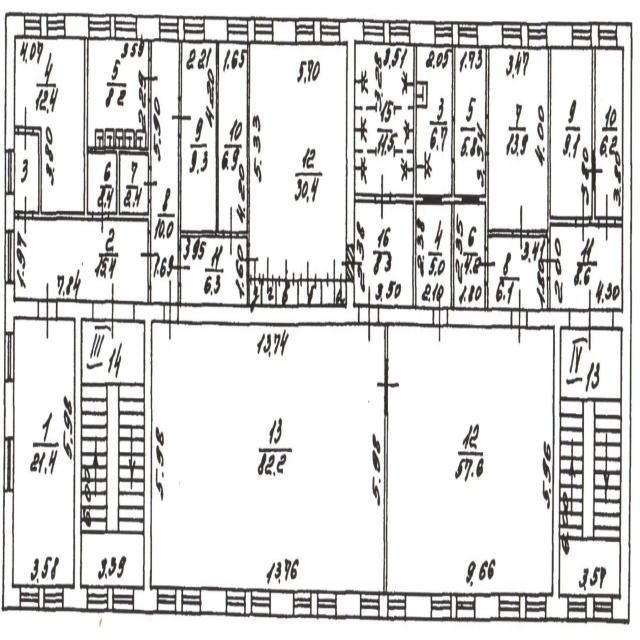Bathrooms: (356, 44, 412, 194), (89, 42, 147, 147), (418, 47, 451, 193), (456, 48, 485, 195)
Corridors: (15, 221, 148, 302), (152, 42, 178, 302), (551, 228, 622, 308), (355, 205, 412, 304), (182, 239, 246, 304), (489, 240, 546, 308), (417, 206, 450, 306), (455, 206, 484, 307), (15, 136, 37, 210), (120, 157, 147, 212), (89, 155, 115, 211), (299, 282, 320, 304), (277, 282, 297, 304), (263, 282, 275, 304), (335, 282, 346, 305), (250, 282, 261, 304), (323, 282, 333, 304)
Doors: (569, 288, 613, 353), (93, 281, 134, 342), (376, 358, 399, 415), (358, 285, 379, 344), (38, 282, 57, 343), (140, 230, 159, 289), (512, 288, 528, 347), (164, 278, 178, 341), (223, 203, 238, 261), (598, 191, 615, 242), (433, 288, 448, 345), (340, 244, 362, 282), (172, 97, 192, 137), (576, 188, 590, 242), (512, 204, 528, 251), (375, 172, 390, 221), (326, 257, 342, 302), (586, 150, 603, 192), (18, 105, 33, 152), (299, 258, 317, 297), (277, 257, 295, 296), (172, 248, 191, 284), (143, 59, 159, 101), (241, 243, 259, 280), (541, 241, 558, 279), (18, 194, 33, 236), (479, 248, 496, 283), (92, 200, 109, 235), (144, 168, 158, 201), (262, 255, 274, 291), (250, 258, 261, 288), (423, 195, 442, 205), (485, 115, 489, 155), (462, 196, 479, 204), (452, 118, 455, 161)
LBwalls: (527, 310, 570, 591), (613, 20, 632, 624), (57, 298, 93, 614), (134, 302, 165, 615), (178, 282, 359, 326), (340, 19, 364, 245), (4, 11, 24, 150), (2, 492, 20, 614), (4, 283, 38, 333), (448, 308, 512, 328), (378, 305, 434, 327), (406, 591, 431, 621), (546, 592, 568, 623), (476, 593, 498, 623), (336, 591, 360, 618), (201, 586, 225, 613), (547, 22, 571, 49), (4, 381, 15, 438), (65, 12, 88, 39), (411, 20, 434, 47), (270, 589, 293, 615), (137, 15, 160, 41), (273, 17, 296, 43), (479, 22, 501, 49), (205, 17, 227, 43), (5, 195, 14, 230), (379, 593, 388, 620), (613, 309, 622, 331), (41, 12, 48, 39), (521, 21, 528, 48), (452, 19, 459, 46), (591, 23, 598, 49), (520, 592, 526, 621), (176, 586, 182, 613), (314, 17, 320, 43), (452, 592, 457, 621), (110, 14, 115, 41), (179, 14, 184, 41), (385, 19, 390, 46), (312, 591, 317, 618), (108, 585, 113, 612), (39, 585, 44, 612), (249, 15, 254, 41), (246, 591, 251, 617)
Offices: (152, 324, 384, 591), (388, 326, 551, 591), (250, 44, 346, 278), (15, 321, 73, 583), (15, 40, 84, 210), (489, 49, 547, 228), (552, 49, 591, 215), (182, 42, 215, 230), (219, 44, 246, 230), (596, 52, 621, 215)
Stairs: (82, 321, 143, 585), (561, 330, 618, 593)
Walls: (33, 38, 152, 230), (177, 44, 224, 248), (527, 47, 576, 242), (390, 46, 423, 307), (478, 155, 512, 248), (442, 161, 462, 305), (237, 44, 251, 244), (384, 415, 387, 591), (591, 51, 596, 151), (485, 48, 490, 114), (590, 191, 599, 226), (452, 47, 456, 118), (317, 277, 326, 304), (355, 193, 375, 204), (179, 41, 182, 98), (295, 280, 301, 307), (546, 279, 551, 309), (384, 325, 388, 358), (484, 284, 489, 308), (615, 215, 622, 228), (247, 280, 250, 303), (148, 41, 152, 58), (147, 288, 151, 304), (178, 284, 181, 302), (275, 278, 277, 305), (14, 211, 18, 220), (341, 277, 346, 284), (15, 124, 18, 135), (261, 277, 262, 304)
Windows: (112, 584, 134, 613), (225, 588, 246, 618), (456, 591, 476, 622), (89, 14, 111, 42), (87, 585, 109, 613), (571, 20, 592, 49), (4, 229, 15, 284), (183, 15, 205, 42), (430, 593, 452, 620), (227, 15, 248, 43), (320, 18, 340, 47), (598, 21, 618, 50), (360, 590, 380, 619), (251, 588, 271, 617), (389, 19, 411, 45), (4, 436, 14, 493), (525, 593, 546, 620), (499, 593, 520, 620), (254, 16, 274, 44), (593, 594, 613, 622), (182, 586, 201, 615), (157, 585, 176, 614), (115, 14, 137, 39), (43, 585, 64, 611), (567, 595, 587, 622), (317, 590, 337, 617), (293, 589, 312, 617), (363, 19, 384, 44), (502, 21, 522, 47), (387, 593, 406, 620), (20, 584, 39, 611), (4, 331, 14, 382), (159, 15, 179, 40), (459, 23, 479, 48), (528, 23, 548, 48), (295, 18, 314, 44), (47, 13, 65, 40), (5, 148, 15, 196), (25, 11, 42, 39), (434, 20, 453, 45)
